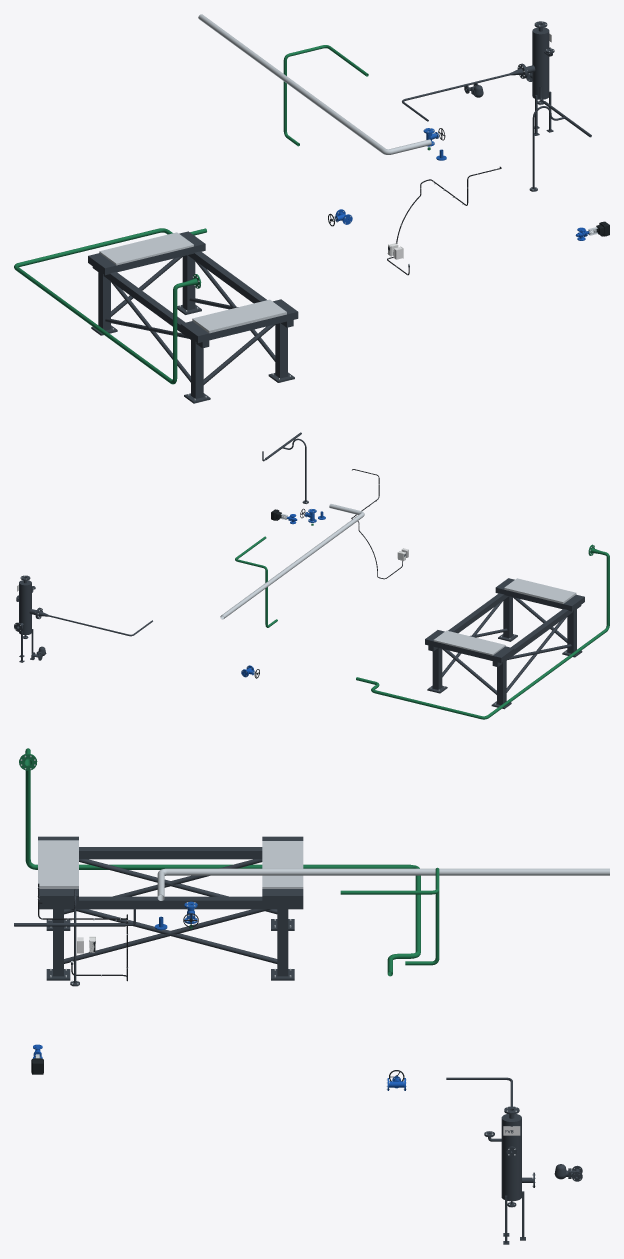
Rendered from s4000-5-HegnJaU4.glb.
3 views of the same model, one above another, from view 1: azimuth 30°, elevation 25°; view 2: azimuth 150°, elevation 25°; view 3: azimuth 270°, elevation 25° (orthographic). The views are drawn at different scales.
Parts seen in each view (by area): view 1: deaerator_support / dark, deaerator_support / steel, deaerator_feed / green, safety_vent_1 / steel, separator_fv8 / dark, from_economizer / green, pressure_header / dark, tds_to_fv / dark; view 2: deaerator_support / dark, deaerator_support / steel, deaerator_feed / green, safety_vent_1 / steel, separator_fv8 / dark; view 3: deaerator_support / dark, deaerator_support / steel, safety_vent_1 / steel, deaerator_feed / green, separator_fv8 / dark, from_economizer / green, pressure_header / dark.
Part boxes in pixels (x1,y1,x2,y2): deaerator_support / dark: (88, 231, 298, 403); deaerator_support / steel: (99, 232, 290, 400); deaerator_feed / green: (14, 228, 206, 384); safety_vent_1 / steel: (198, 14, 431, 154); separator_fv8 / dark: (521, 21, 554, 135); from_economizer / green: (283, 45, 358, 146); pressure_header / dark: (529, 86, 591, 191); tds_to_fv / dark: (402, 64, 526, 121); deaerator_support / dark: (425, 578, 584, 709); deaerator_support / steel: (430, 578, 576, 704); deaerator_feed / green: (356, 544, 609, 719); safety_vent_1 / steel: (220, 504, 364, 619); separator_fv8 / dark: (14, 575, 39, 662); deaerator_support / dark: (38, 836, 303, 980); deaerator_support / steel: (38, 840, 303, 977); safety_vent_1 / steel: (157, 868, 609, 900); deaerator_feed / green: (19, 748, 420, 976); separator_fv8 / dark: (484, 1106, 534, 1244); from_economizer / green: (363, 867, 439, 965); pressure_header / dark: (14, 889, 135, 986).
Size of the model in its own units: 8.64 by 2.87 by 6.38.
